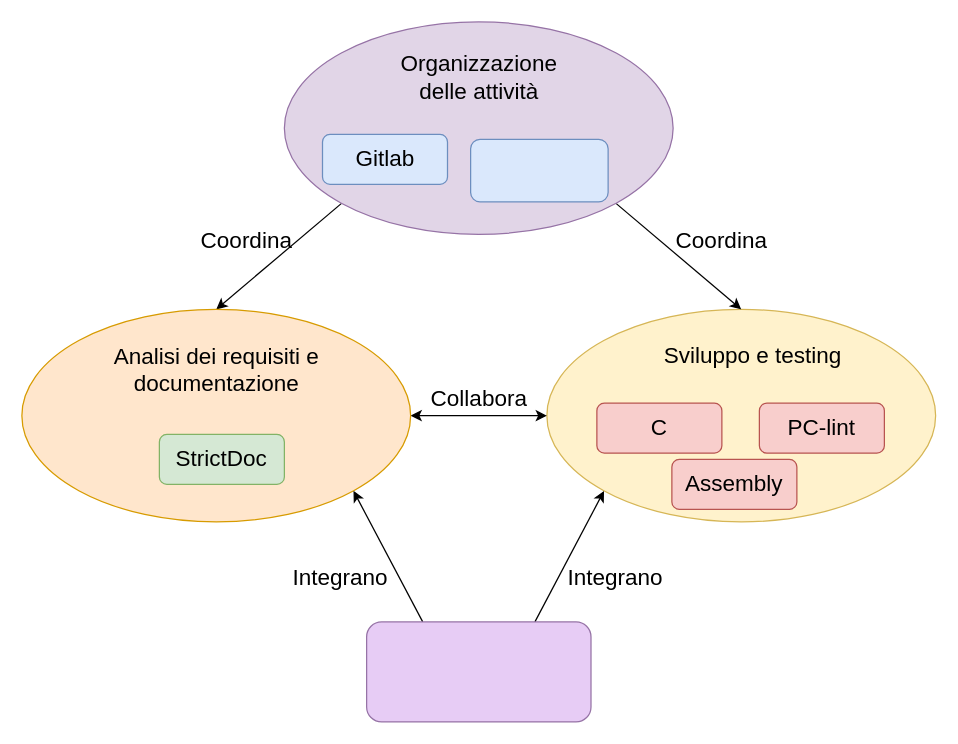
The diagram is 958 pixels wide and 744 high, and some of its shapes have lost their labels. The shapes that lost their labels are listed below. From the top down, each one's centre as x and y in pixels, then its label:
At (538,170): "Strumenti proprietari".
At (478,671): "Strumenti esterni di aziende terze".
